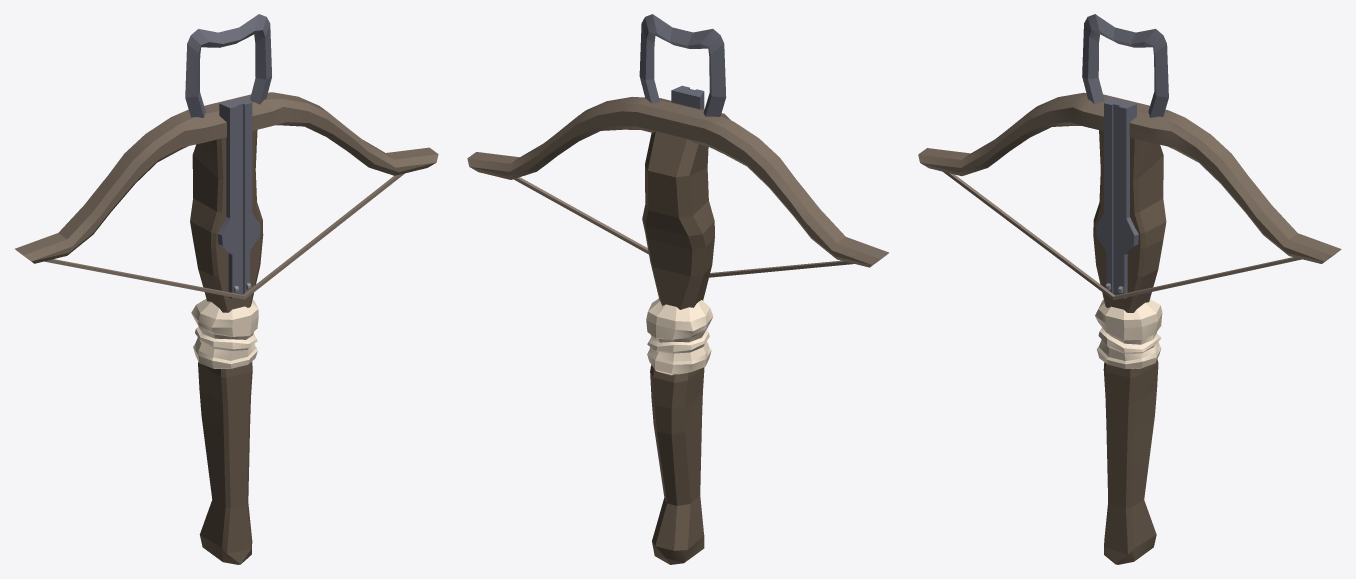
Rendered from _CROSSBOW.fbx.
The picture shows the model from 3 angles, left to right: view 1: azimuth 30°, elevation 25°; view 2: azimuth 150°, elevation 25°; view 3: azimuth 330°, elevation 25°; orthographic projection.
Parts seen in each view (by area): view 1: CROSSBOW_MAIN; view 2: CROSSBOW_MAIN; view 3: CROSSBOW_MAIN.
Boxes of the visible parts, left/top/right/bottom form: CROSSBOW_MAIN: left=15, top=14, right=438, bottom=564; CROSSBOW_MAIN: left=467, top=14, right=888, bottom=564; CROSSBOW_MAIN: left=918, top=14, right=1341, bottom=564.
Bounding box in the file's own units: 85.79 × 106 × 12.24.
